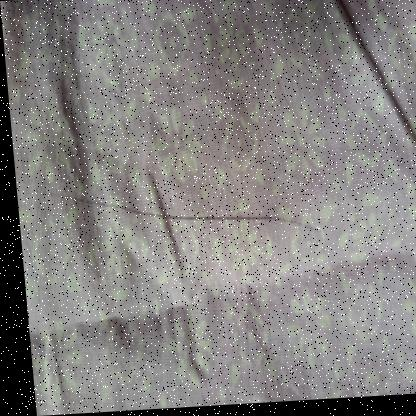spot: (71, 200, 316, 240)
